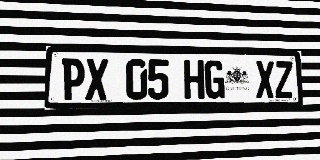0: (126, 59, 147, 100)
5: (148, 59, 169, 99)
G: (204, 60, 225, 99)
H: (184, 60, 204, 99)
P: (61, 58, 85, 100)
X: (85, 59, 108, 100), (255, 61, 275, 98)
Z: (274, 61, 293, 98)
